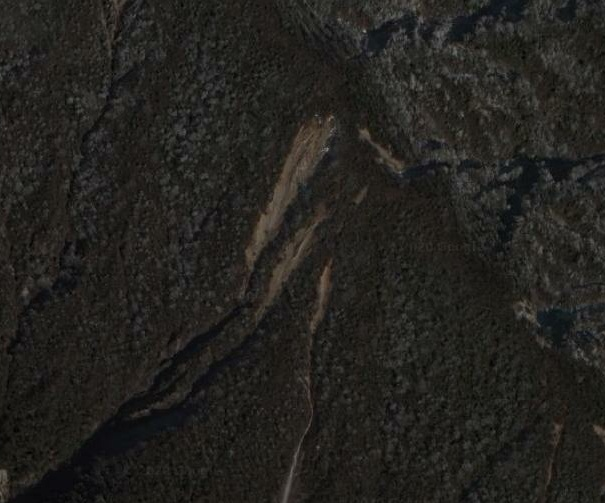slope: (233, 110, 345, 289), (248, 205, 342, 321), (356, 122, 408, 175)
